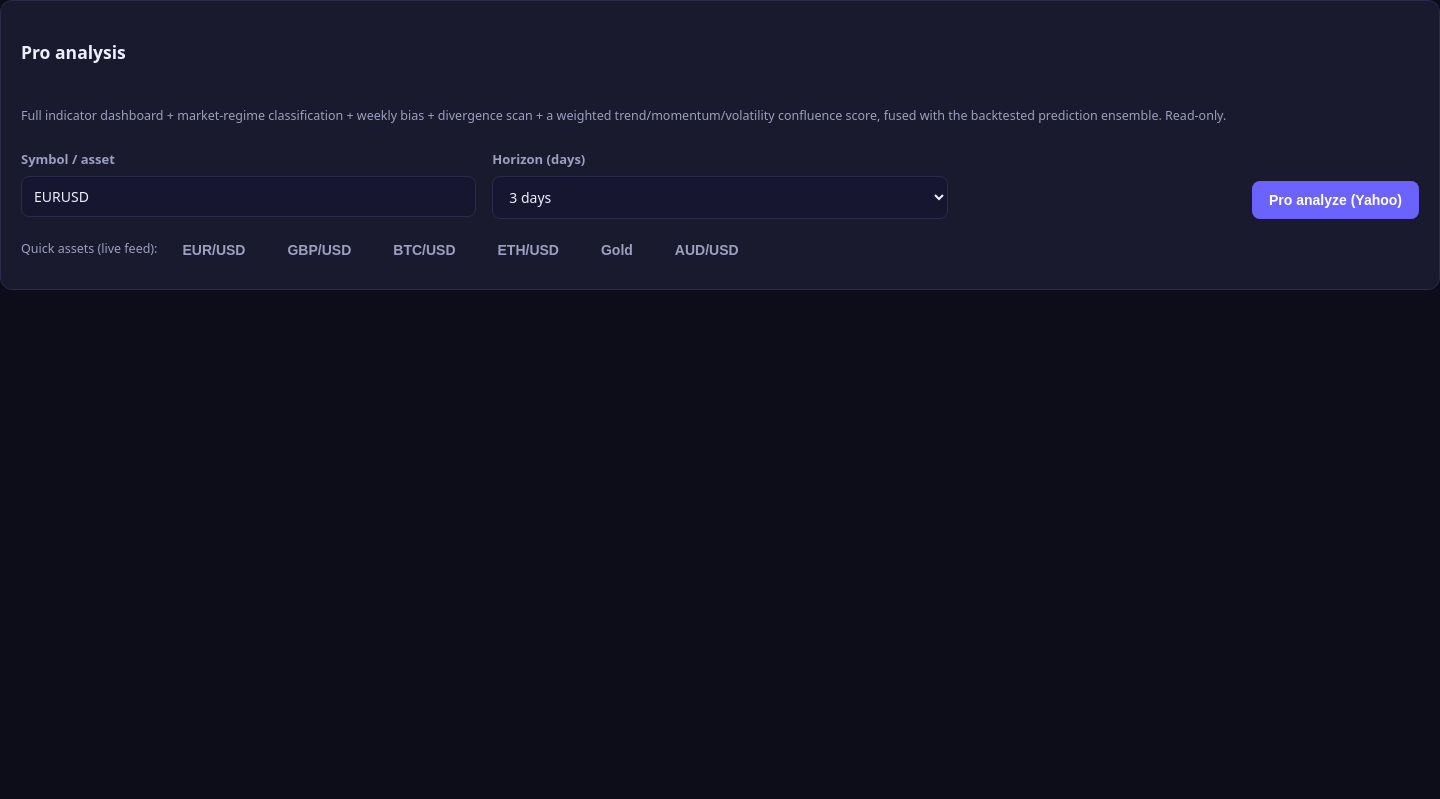
Scenario: ProAnalysisCard fusion layers (B-FUS-3) › empty layers render the honest 'no directional evidence' state, not a fake read
Click the button "Pro analyze (Yahoo)" at point(1336, 200), box [1252, 181, 1419, 219]
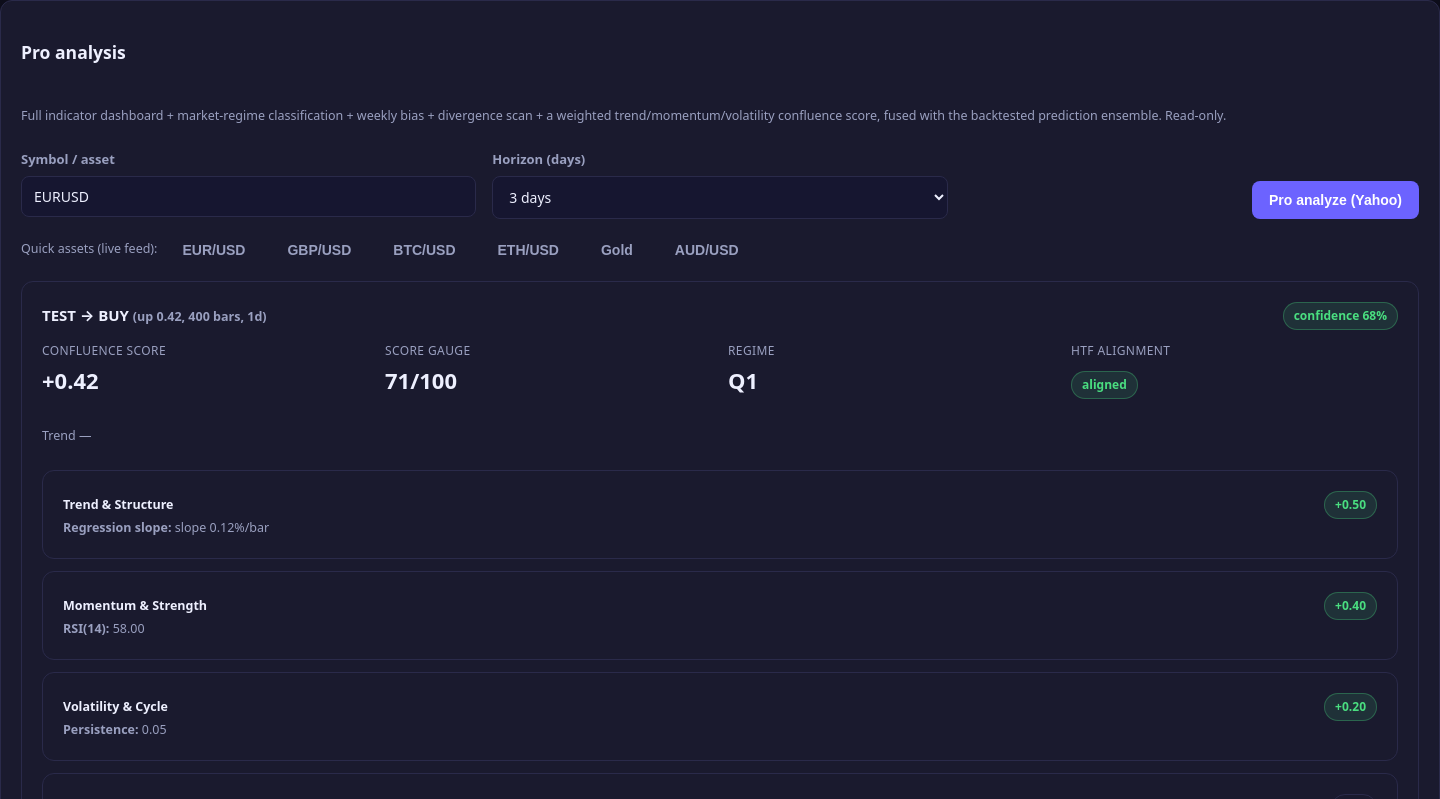
Check: the text "TEST → BUY" is shown, box [42, 304, 267, 327]
